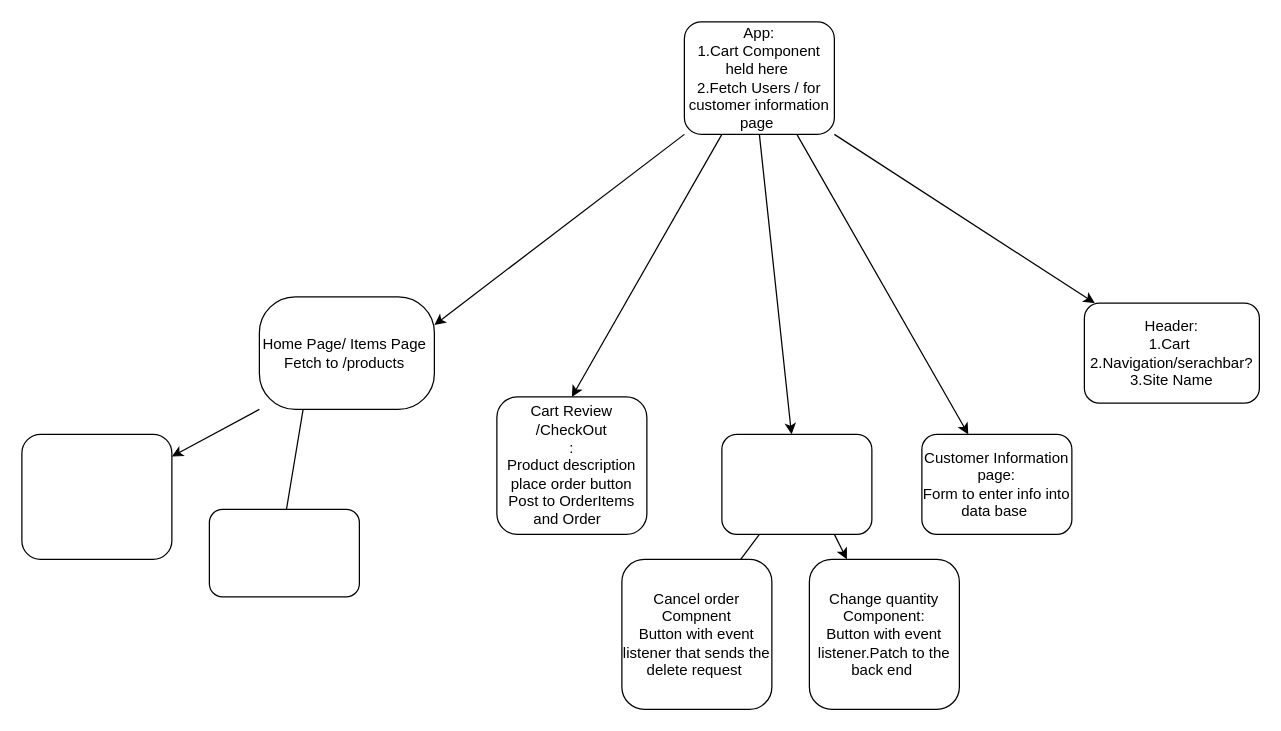
This 1281x731 diagram has some shape labels left out. Here are the shapes that lost their labels. From the top down, the box of each, then its label:
(21, 433, 172, 559): Product Card Component / hold formatting for the items
(721, 433, 872, 534): Modify Order(component) Fetch Order
(208, 508, 359, 597): Item Details ( route)
